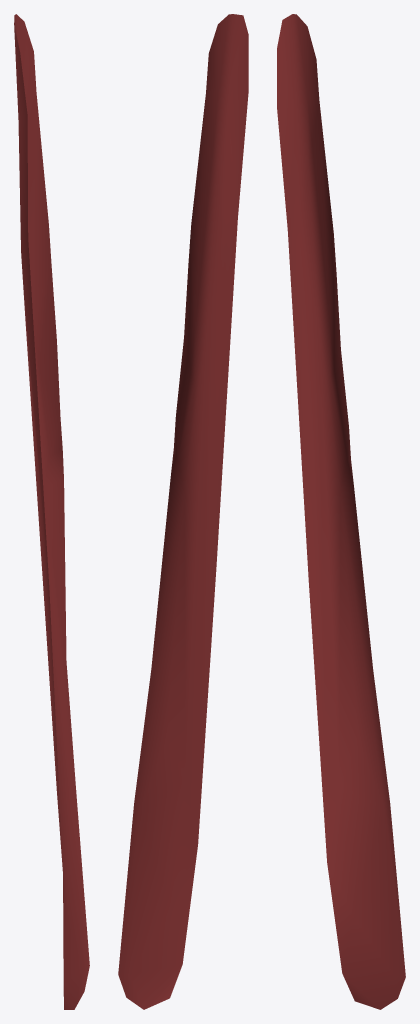
Rendered from fibularis-brevis-muscle-or.glb.
The picture shows the model from 3 angles, left to right: view 1: azimuth 30°, elevation 25°; view 2: azimuth 150°, elevation 25°; view 3: azimuth 330°, elevation 25°; orthographic projection. The views are drawn at different scales.
Parts seen in each view (by area): view 1: Fibularis brevis muscle.or; view 2: Fibularis brevis muscle.or; view 3: Fibularis brevis muscle.or.
Boxes of the visible parts, x1,y1,x2,y2 form: Fibularis brevis muscle.or: [14, 14, 89, 1009]; Fibularis brevis muscle.or: [118, 14, 248, 1009]; Fibularis brevis muscle.or: [277, 14, 405, 1009].
Size of the model in its own units: 0.017 by 0.1634 by 0.0103.
